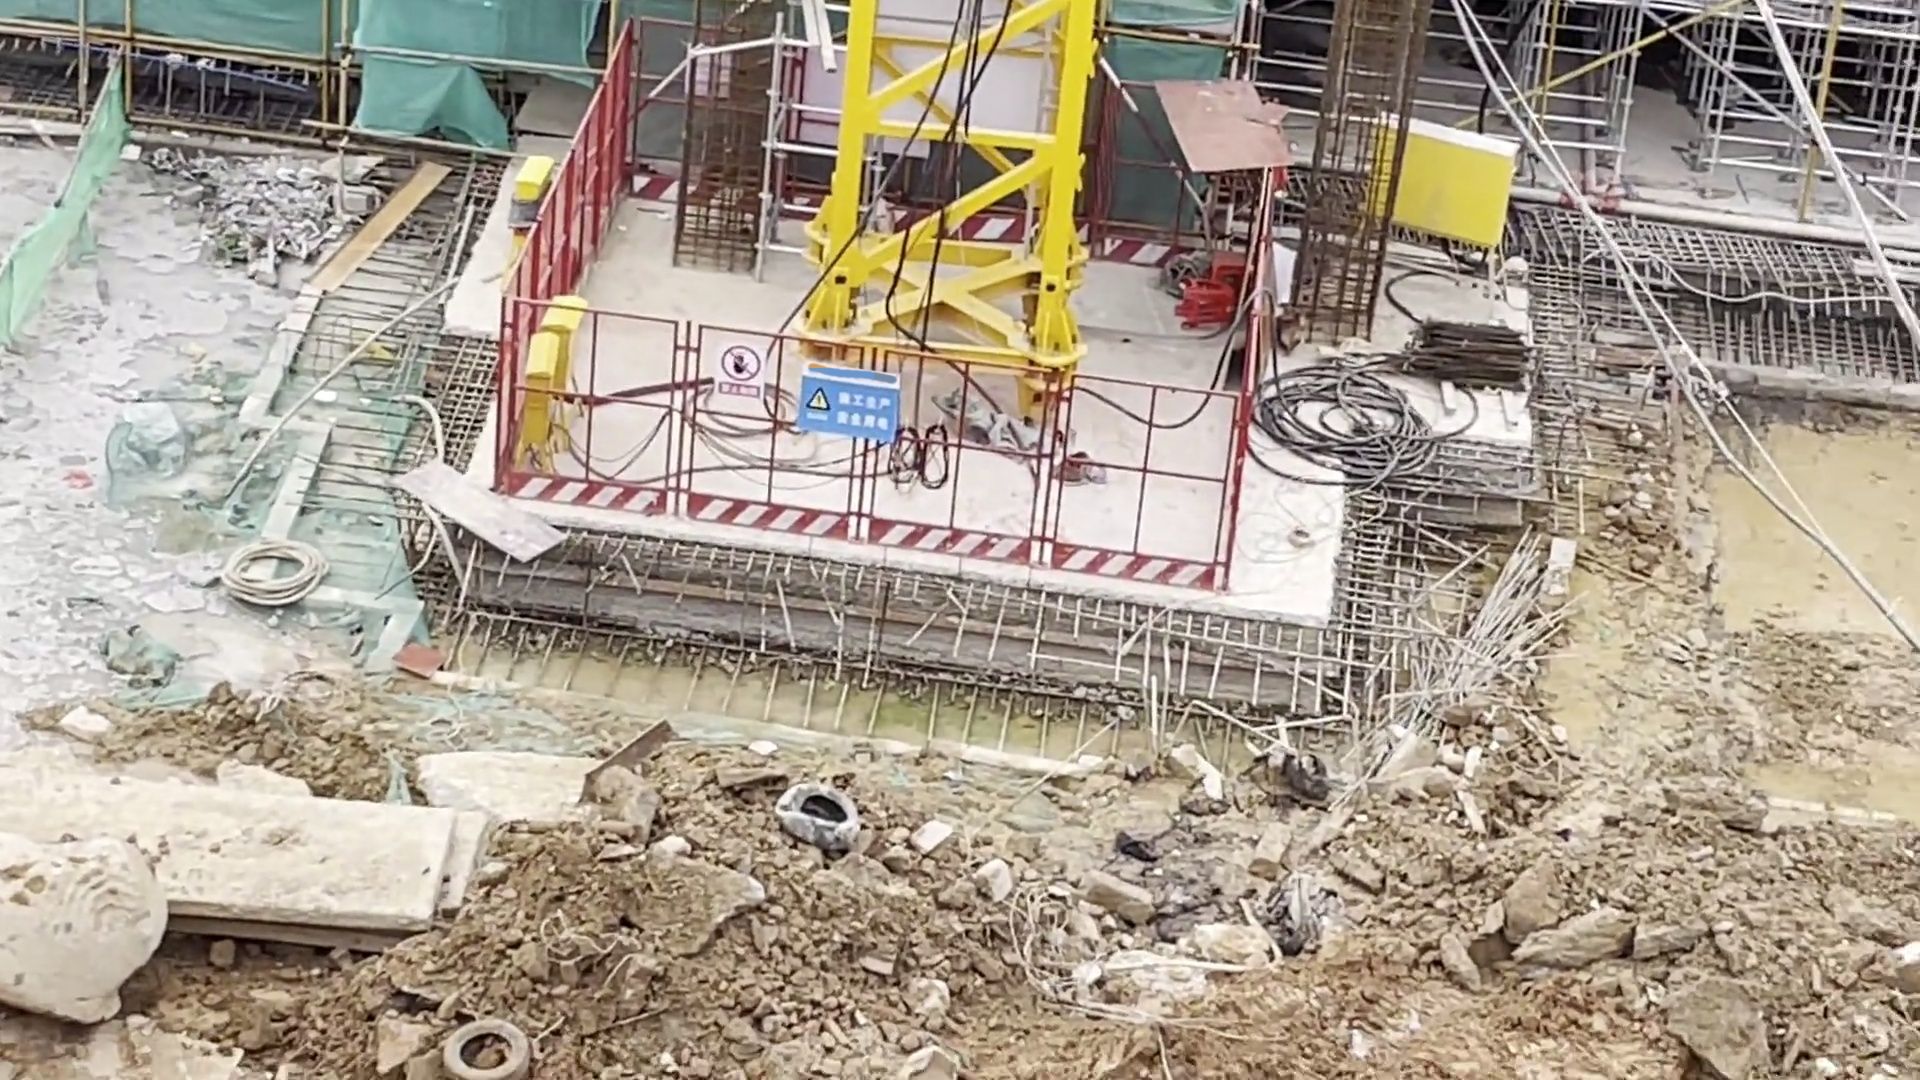ebox: (1375, 113, 1509, 285), (516, 281, 580, 469), (502, 154, 549, 253)
fence: (489, 41, 632, 460), (1055, 353, 1238, 591), (869, 328, 1044, 564), (498, 289, 676, 516), (686, 320, 865, 539)
slogan: (793, 369, 906, 436), (716, 349, 767, 401)
